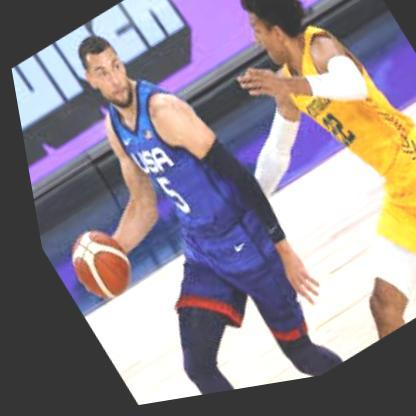basketball: (47, 219, 133, 315)
